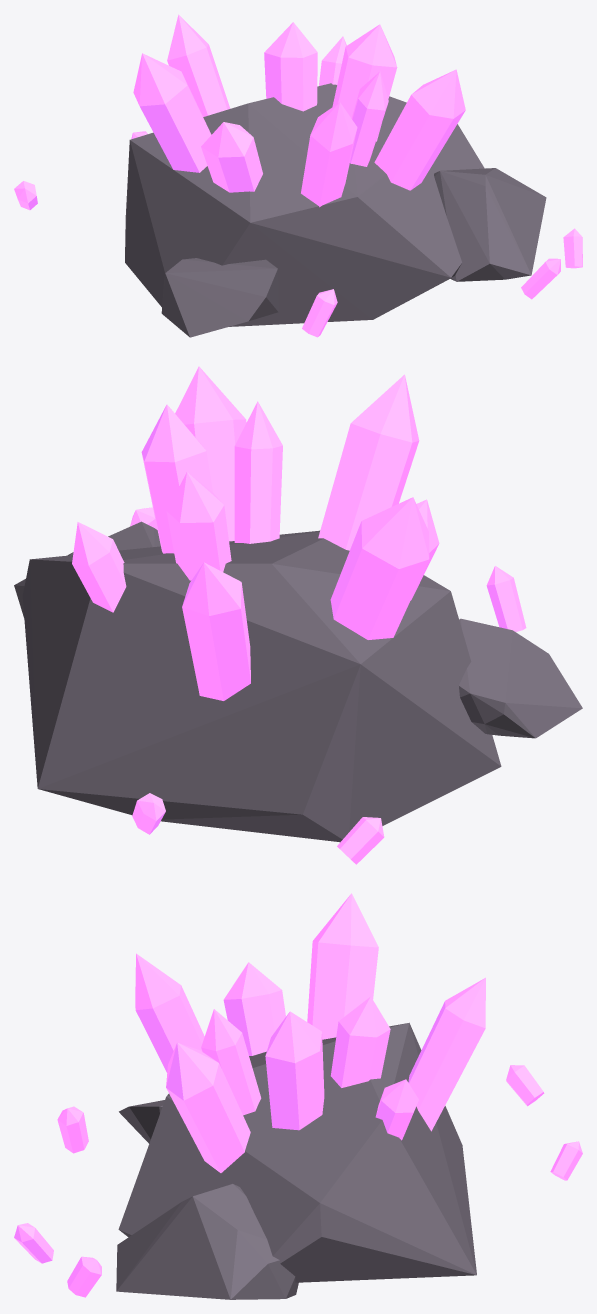
Rendered from Crystal_OreNode_Purple.glb.
3 renders of one model, top to bottom at view 1: azimuth 30°, elevation 25°; view 2: azimuth 150°, elevation 25°; view 3: azimuth 270°, elevation 25°, orthographic. The views are drawn at different scales.
Parts seen in each view (by area): view 1: Crystal_OreNode_purple; view 2: Crystal_OreNode_purple; view 3: Crystal_OreNode_purple.
Part boxes in pixels (bbox=[...]): Crystal_OreNode_purple: bbox=[14, 14, 582, 337]; Crystal_OreNode_purple: bbox=[14, 366, 582, 864]; Crystal_OreNode_purple: bbox=[14, 893, 582, 1299].
Size of the model in its own units: 1.27 by 0.715 by 1.38.
